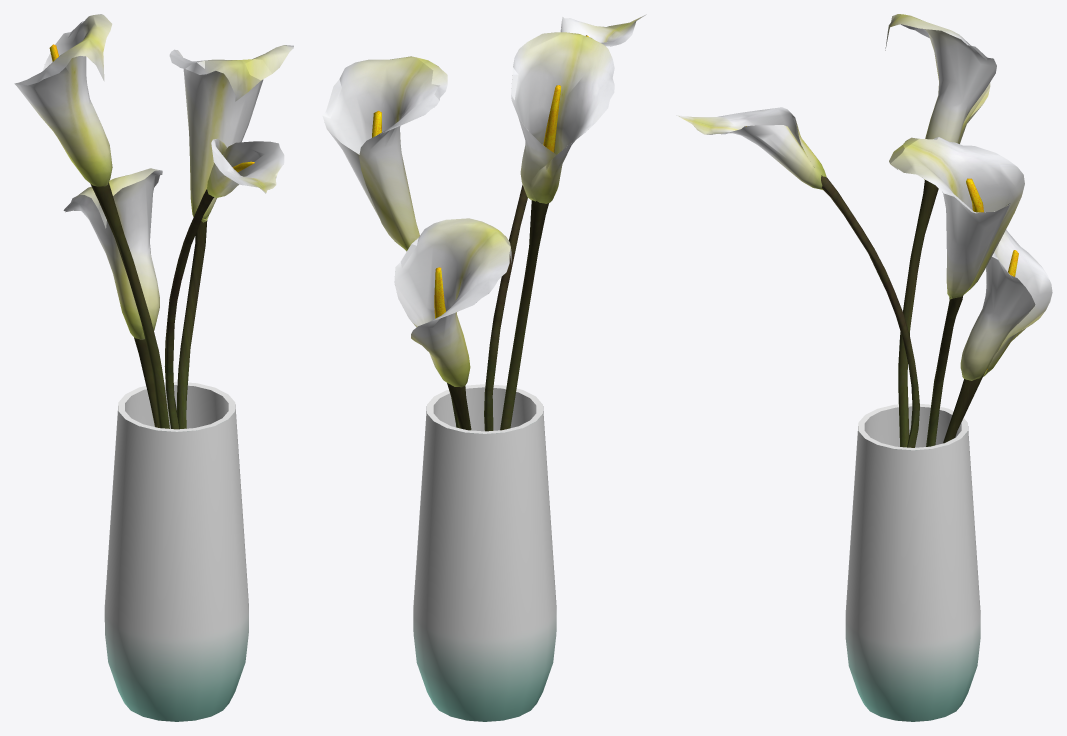
Rendered from Tulips.FBX.
The picture shows the model from 3 angles, left to right: view 1: azimuth 30°, elevation 25°; view 2: azimuth 150°, elevation 25°; view 3: azimuth 270°, elevation 25°; orthographic projection. The views are drawn at different scales.
Visible parts, largest first — view 1: tulips; view 2: tulips; view 3: tulips.
Part boxes in pixels (box(x1,y1,x2,y2)): tulips: box(14, 14, 293, 721); tulips: box(322, 14, 646, 721); tulips: box(677, 14, 1052, 721).
Size of the model in its own units: 20.98 by 51.87 by 27.32.
3 materials, 3 textured.
